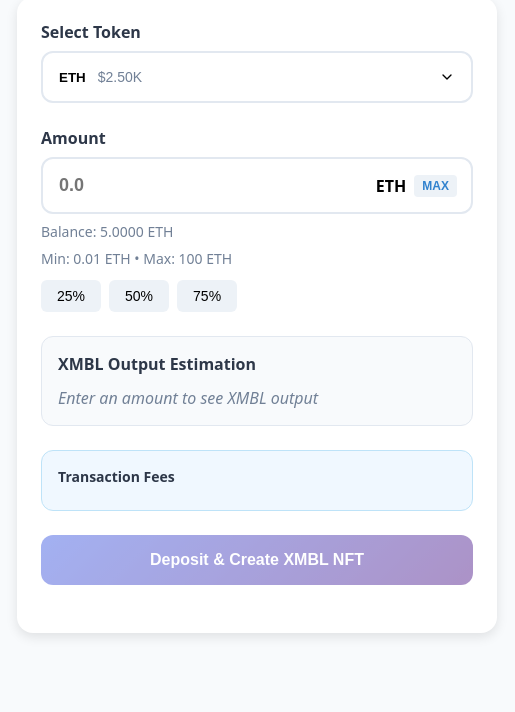
Test: DepositForm › should show validation error for insufficient balance
In the field with test id "amount-input": (257, 186) [41,157,473,214], type "10.0"
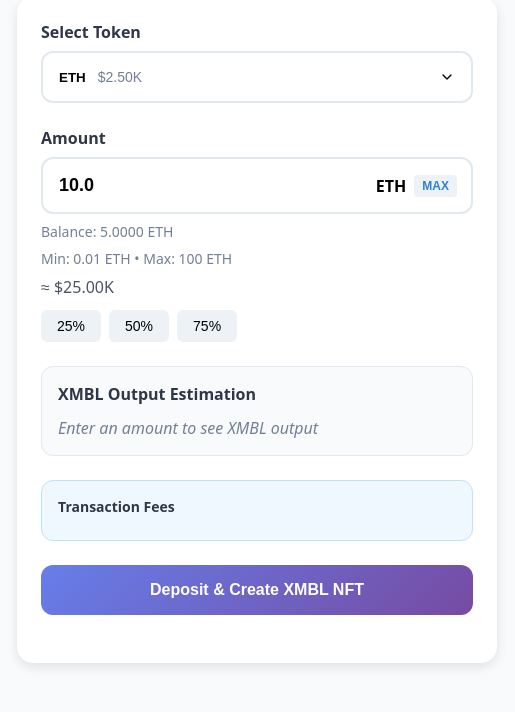
Leave the field with test id "amount-input", box [41,157,473,214]
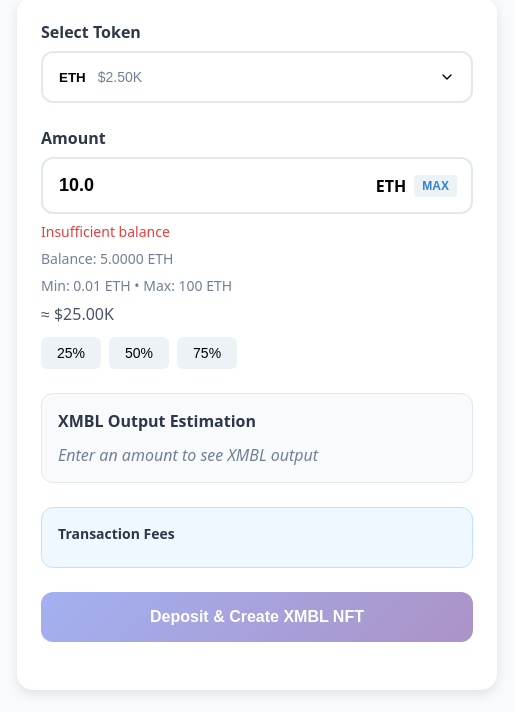
Now the message with test id "validation-error" reads "Insufficient balance", box [41,222,170,241]
